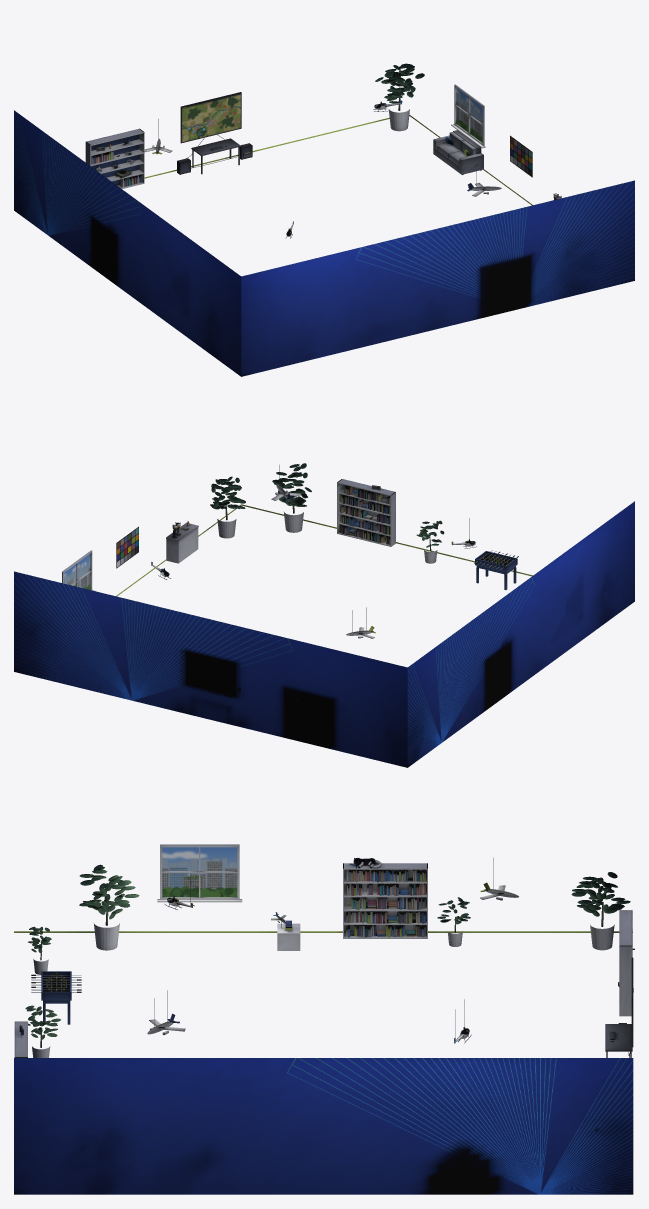
File: environment.gltf
The picture shows the model from 3 angles, top to bottom: view 1: azimuth 30°, elevation 25°; view 2: azimuth 150°, elevation 25°; view 3: azimuth 270°, elevation 25°; orthographic projection. The views are drawn at different scales.
Visible parts, largest first — view 1: room; view 2: room; view 3: room.
Boxes of the visible parts, box(x1,y1,x2,y2) form: room: box(14, 63, 634, 376); room: box(14, 463, 634, 767); room: box(14, 844, 634, 1194).
Size of the model in its own units: 16.17 by 3.9 by 16.04.
Materials: 100 (93 with a texture image).
